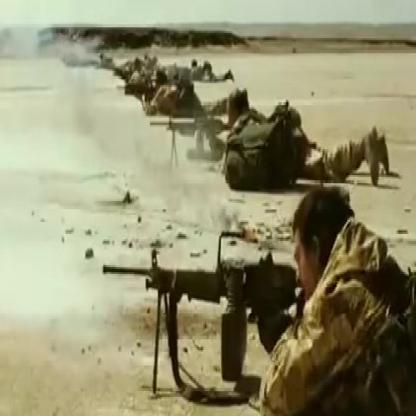Gun: (97, 207, 298, 408), (149, 113, 218, 165)
